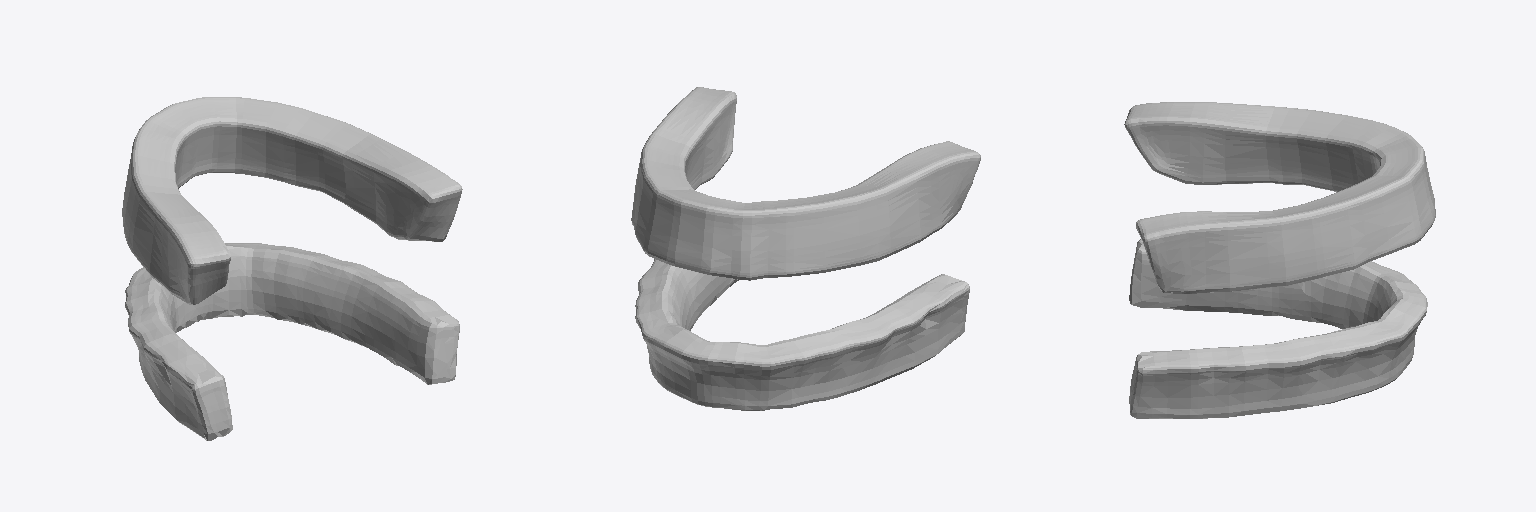
The model's file is bones.obj.
3 views of the same model, side by side, from view 1: azimuth 30°, elevation 25°; view 2: azimuth 150°, elevation 25°; view 3: azimuth 270°, elevation 25° (orthographic).
Visible parts, largest first — view 1: upper_bone, lower_bone; view 2: upper_bone, lower_bone; view 3: upper_bone, lower_bone.
Part boxes in pixels (x1,y1,x2,y2): upper_bone: (122, 97, 462, 304); lower_bone: (125, 243, 459, 440); upper_bone: (631, 87, 980, 280); lower_bone: (635, 259, 969, 410); upper_bone: (1124, 102, 1435, 293); lower_bone: (1129, 239, 1427, 418).
Size of the model in its own units: 0.125 by 0.0884 by 0.1204.